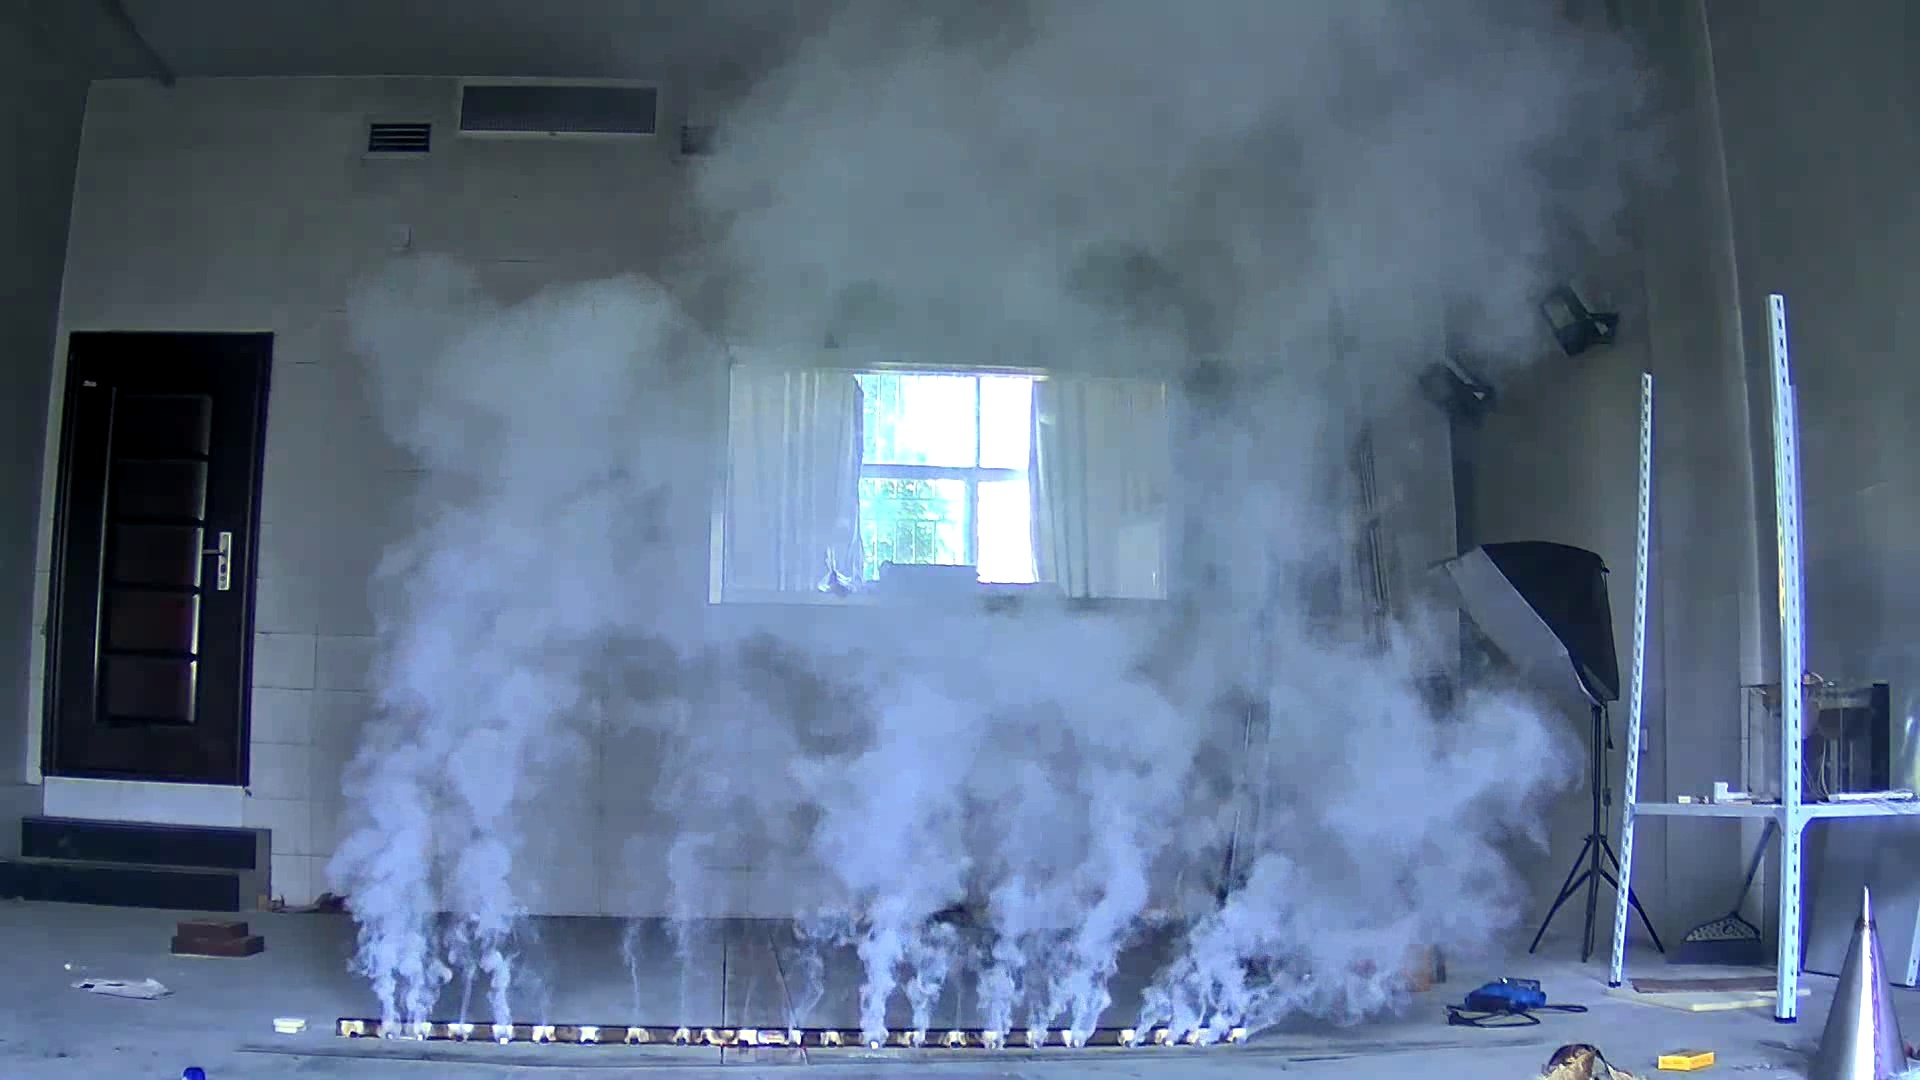smoke: (311, 257, 1598, 1038)
